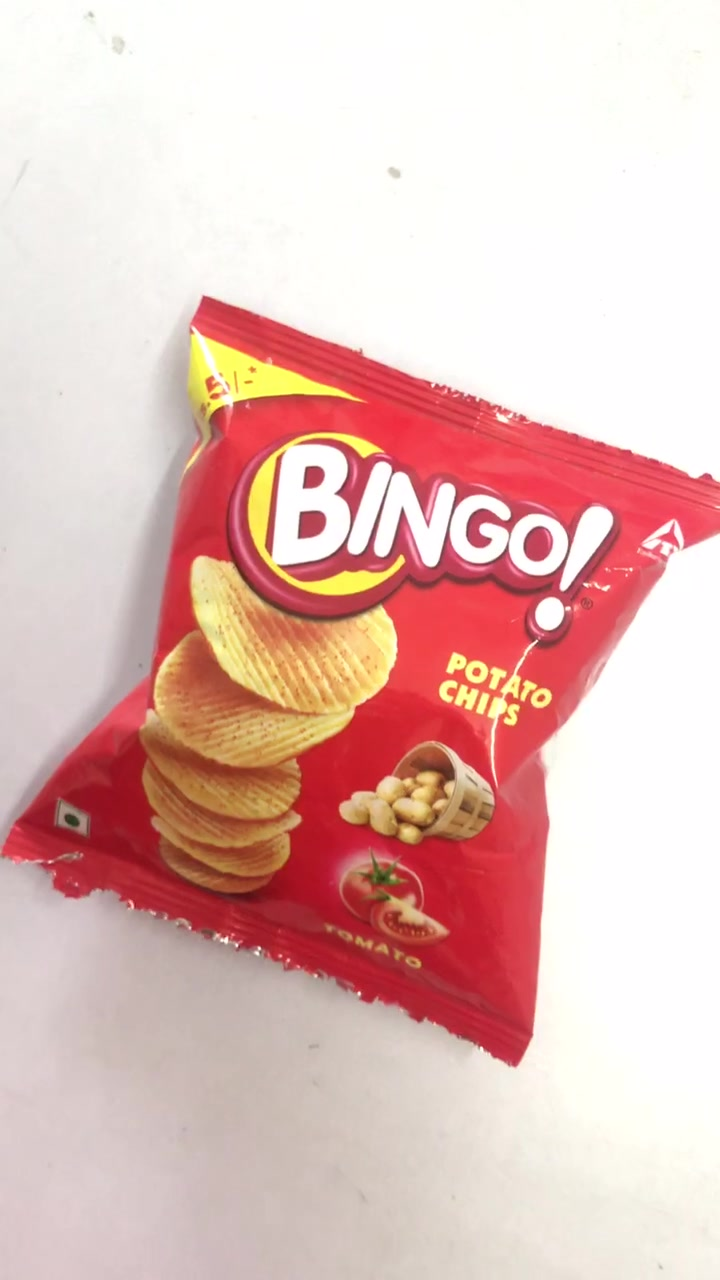Bingo: (16, 299, 720, 1059)
